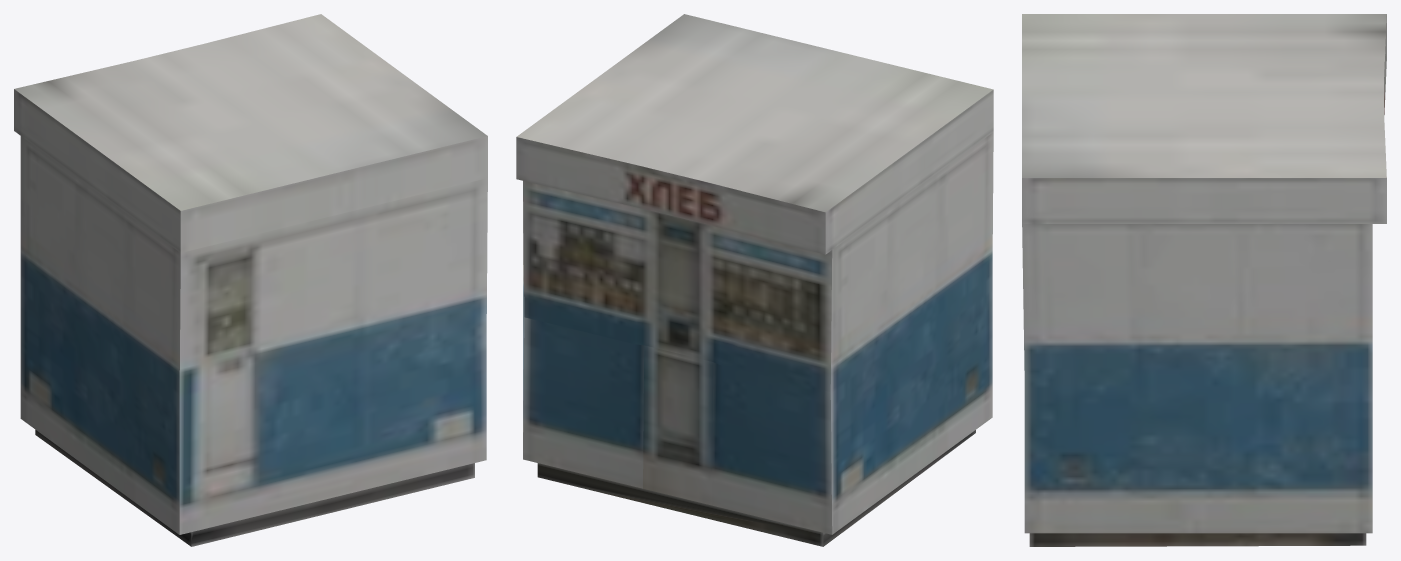
Rendered from kiosk.lod1.glb.
3 renders of one model, left to right at view 1: azimuth 30°, elevation 25°; view 2: azimuth 150°, elevation 25°; view 3: azimuth 270°, elevation 25°, orthographic. The views are drawn at different scales.
Visible parts, largest first — view 1: small_soviet_shop_larek_0; view 2: small_soviet_shop_larek_0; view 3: small_soviet_shop_larek_0.
Boxes of the visible parts, <box> form: small_soviet_shop_larek_0: <box>14,14,487,546</box>; small_soviet_shop_larek_0: <box>516,14,993,546</box>; small_soviet_shop_larek_0: <box>1022,14,1386,546</box>.
Size of the model in its own units: 3.2 by 3.4 by 3.01.
1 material, 1 textured.
